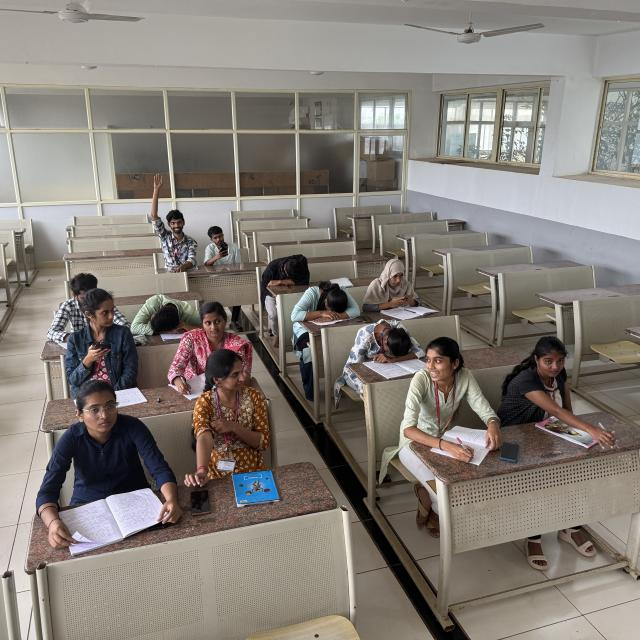Hand Rising: (147, 173, 198, 262)
Sleeping: (353, 315, 427, 370), (124, 292, 195, 335), (294, 281, 364, 322), (261, 252, 320, 290)
Using Phone: (67, 294, 139, 386), (360, 251, 430, 309), (200, 223, 240, 270)
Writing: (412, 341, 498, 463), (165, 305, 250, 401)
